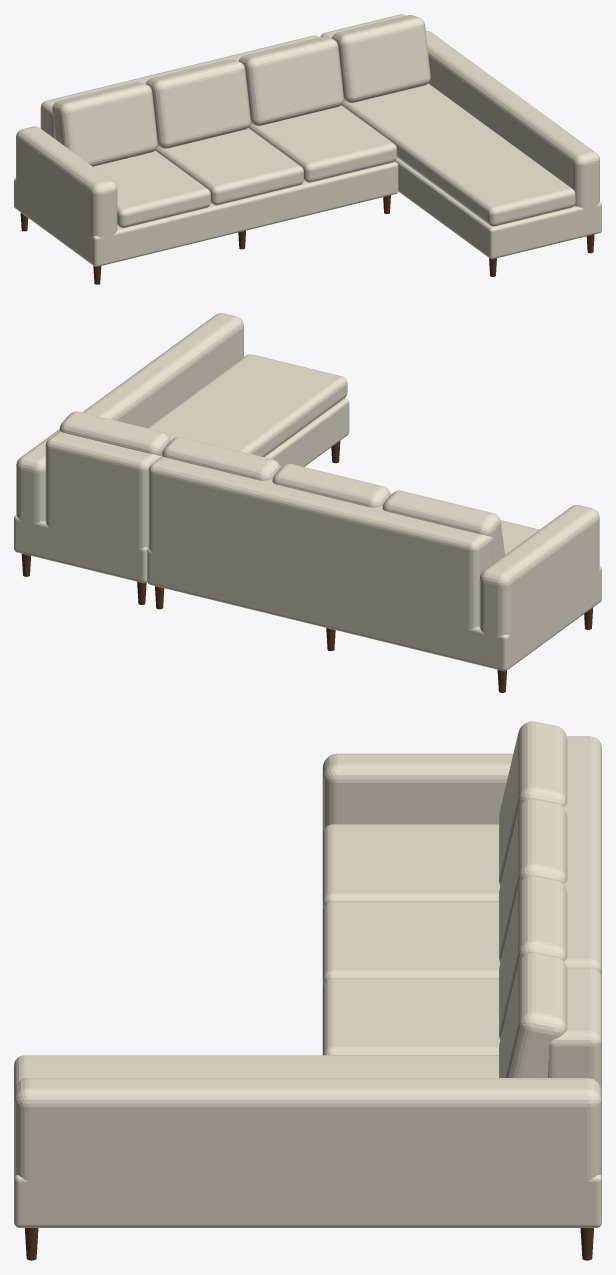
Rendered from 013_l_shaped_sectional_sofa.glb.
3 renders of one model, top to bottom at view 1: azimuth 30°, elevation 25°; view 2: azimuth 150°, elevation 25°; view 3: azimuth 270°, elevation 25°, orthographic. The views are drawn at different scales.
Parts seen in each view (by area): view 1: 022_chaise_cushion, 006_sofa_base_frame, 020_chaise_arm, 007_sofa_arm_l, 013_sofa_back_cushion_2, 014_sofa_back_cushion_3, 012_sofa_back_cushion_1, 019_chaise_base, 010_sofa_seat_cushion_2, 011_sofa_seat_cushion_3, 023_chaise_back_cushion, 009_sofa_seat_cushion_1 (+1 smaller); view 2: 008_sofa_back_frame, 006_sofa_base_frame, 007_sofa_arm_l, 022_chaise_cushion, 021_chaise_back_frame, 020_chaise_arm, 019_chaise_base, 012_sofa_back_cushion_1, 014_sofa_back_cushion_3, 013_sofa_back_cushion_2, 023_chaise_back_cushion, 009_sofa_seat_cushion_1; view 3: 020_chaise_arm, 019_chaise_base, 009_sofa_seat_cushion_1, 010_sofa_seat_cushion_2, 011_sofa_seat_cushion_3, 007_sofa_arm_l, 022_chaise_cushion, 008_sofa_back_frame, 023_chaise_back_cushion, 013_sofa_back_cushion_2, 012_sofa_back_cushion_1, 014_sofa_back_cushion_3 (+1 smaller).
Boxes of the visible parts, x1=… form: 022_chaise_cushion: x1=341, y1=83, x2=575, y2=226; 006_sofa_base_frame: x1=14, y1=161, x2=398, y2=266; 020_chaise_arm: x1=425, y1=31, x2=599, y2=209; 007_sofa_arm_l: x1=16, y1=126, x2=117, y2=257; 013_sofa_back_cushion_2: x1=146, y1=59, x2=250, y2=148; 014_sofa_back_cushion_3: x1=239, y1=36, x2=343, y2=125; 012_sofa_back_cushion_1: x1=52, y1=82, x2=157, y2=166; 019_chaise_base: x1=395, y1=157, x2=601, y2=259; 010_sofa_seat_cushion_2: x1=155, y1=128, x2=303, y2=205; 011_sofa_seat_cushion_3: x1=248, y1=105, x2=396, y2=182; 023_chaise_back_cushion: x1=332, y1=15, x2=430, y2=102; 009_sofa_seat_cushion_1: x1=93, y1=150, x2=210, y2=227; 008_sofa_back_frame: x1=148, y1=456, x2=493, y2=656; 006_sofa_base_frame: x1=147, y1=548, x2=601, y2=671; 007_sofa_arm_l: x1=479, y1=505, x2=599, y2=661; 022_chaise_cushion: x1=147, y1=354, x2=347, y2=456; 021_chaise_back_frame: x1=45, y1=431, x2=161, y2=562; 020_chaise_arm: x1=16, y1=313, x2=243, y2=547; 019_chaise_base: x1=14, y1=398, x2=349, y2=583; 012_sofa_back_cushion_1: x1=382, y1=490, x2=504, y2=563; 014_sofa_back_cushion_3: x1=162, y1=436, x2=280, y2=480; 013_sofa_back_cushion_2: x1=272, y1=463, x2=390, y2=507; 023_chaise_back_cushion: x1=59, y1=411, x2=170, y2=455; 009_sofa_seat_cushion_1: x1=500, y1=520, x2=539, y2=554; 020_chaise_arm: x1=14, y1=1078, x2=601, y2=1216; 019_chaise_base: x1=14, y1=1175, x2=601, y2=1227; 009_sofa_seat_cushion_1: x1=322, y1=824, x2=500, y2=910; 010_sofa_seat_cushion_2: x1=322, y1=901, x2=500, y2=987; 011_sofa_seat_cushion_3: x1=322, y1=978, x2=500, y2=1055; 007_sofa_arm_l: x1=322, y1=753, x2=513, y2=833; 022_chaise_cushion: x1=14, y1=1055, x2=498, y2=1090; 008_sofa_back_frame: x1=563, y1=736, x2=601, y2=977; 023_chaise_back_cushion: x1=499, y1=952, x2=567, y2=1077; 013_sofa_back_cushion_2: x1=499, y1=798, x2=567, y2=962; 012_sofa_back_cushion_1: x1=499, y1=721, x2=567, y2=885; 014_sofa_back_cushion_3: x1=499, y1=875, x2=567, y2=1039.
Size of the model in its own units: 2.78 by 0.8431 by 2.
